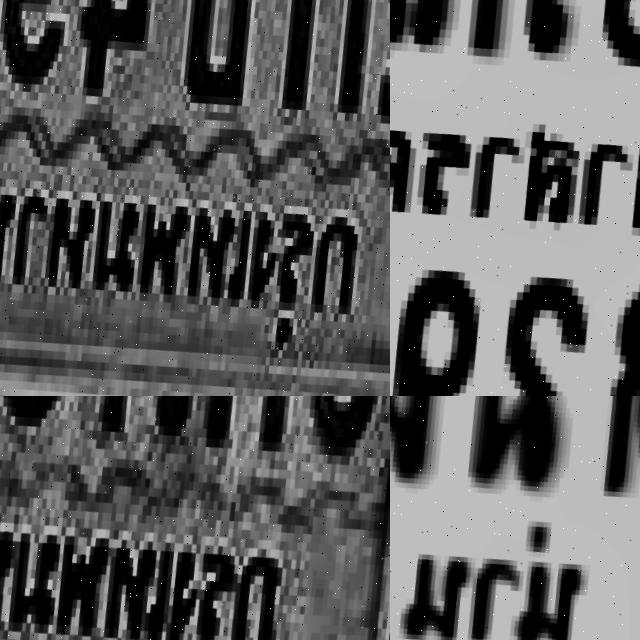license-plate: (0, 0, 390, 396), (390, 0, 640, 396), (0, 396, 390, 640), (390, 396, 640, 640)
